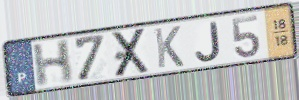5: (229, 14, 262, 59)
7: (72, 34, 108, 84)
H: (31, 37, 75, 89)
J: (194, 20, 223, 63)
K: (153, 24, 186, 70)
X: (111, 26, 153, 80)
